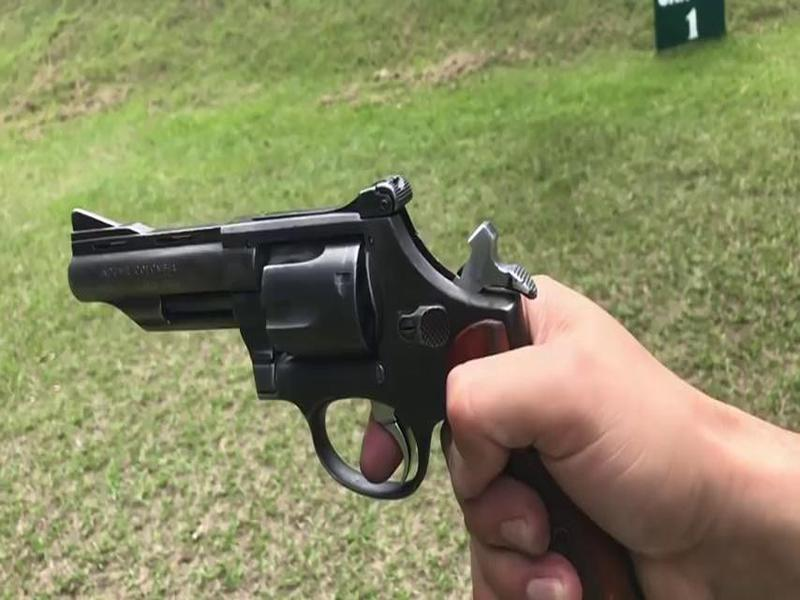Revolver: (50, 170, 555, 514)
